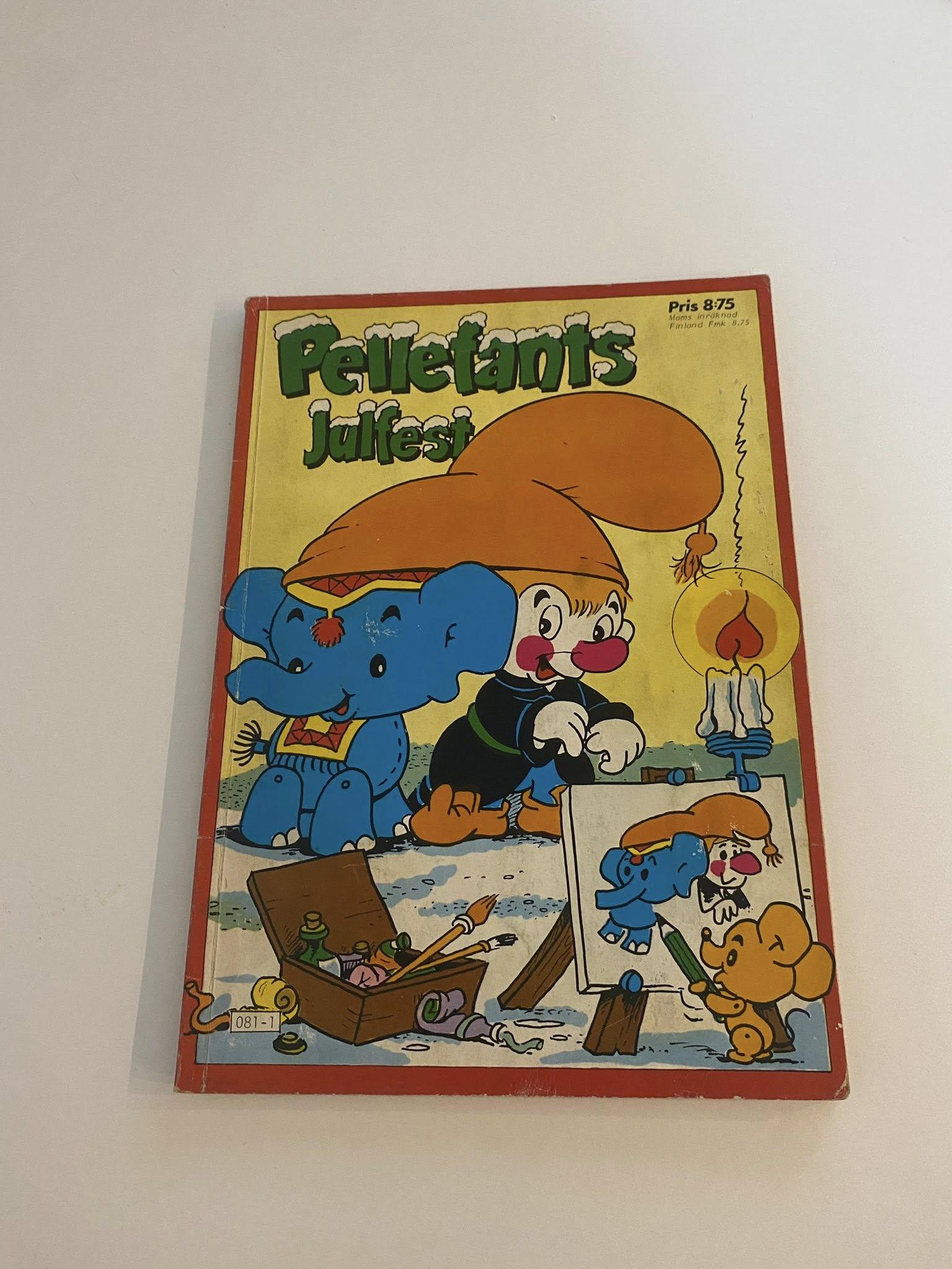comic: (177, 272, 855, 1098)
